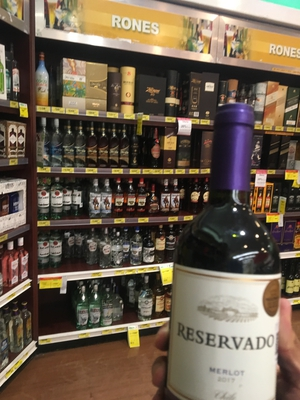reservado merlot: (167, 109, 284, 400)
